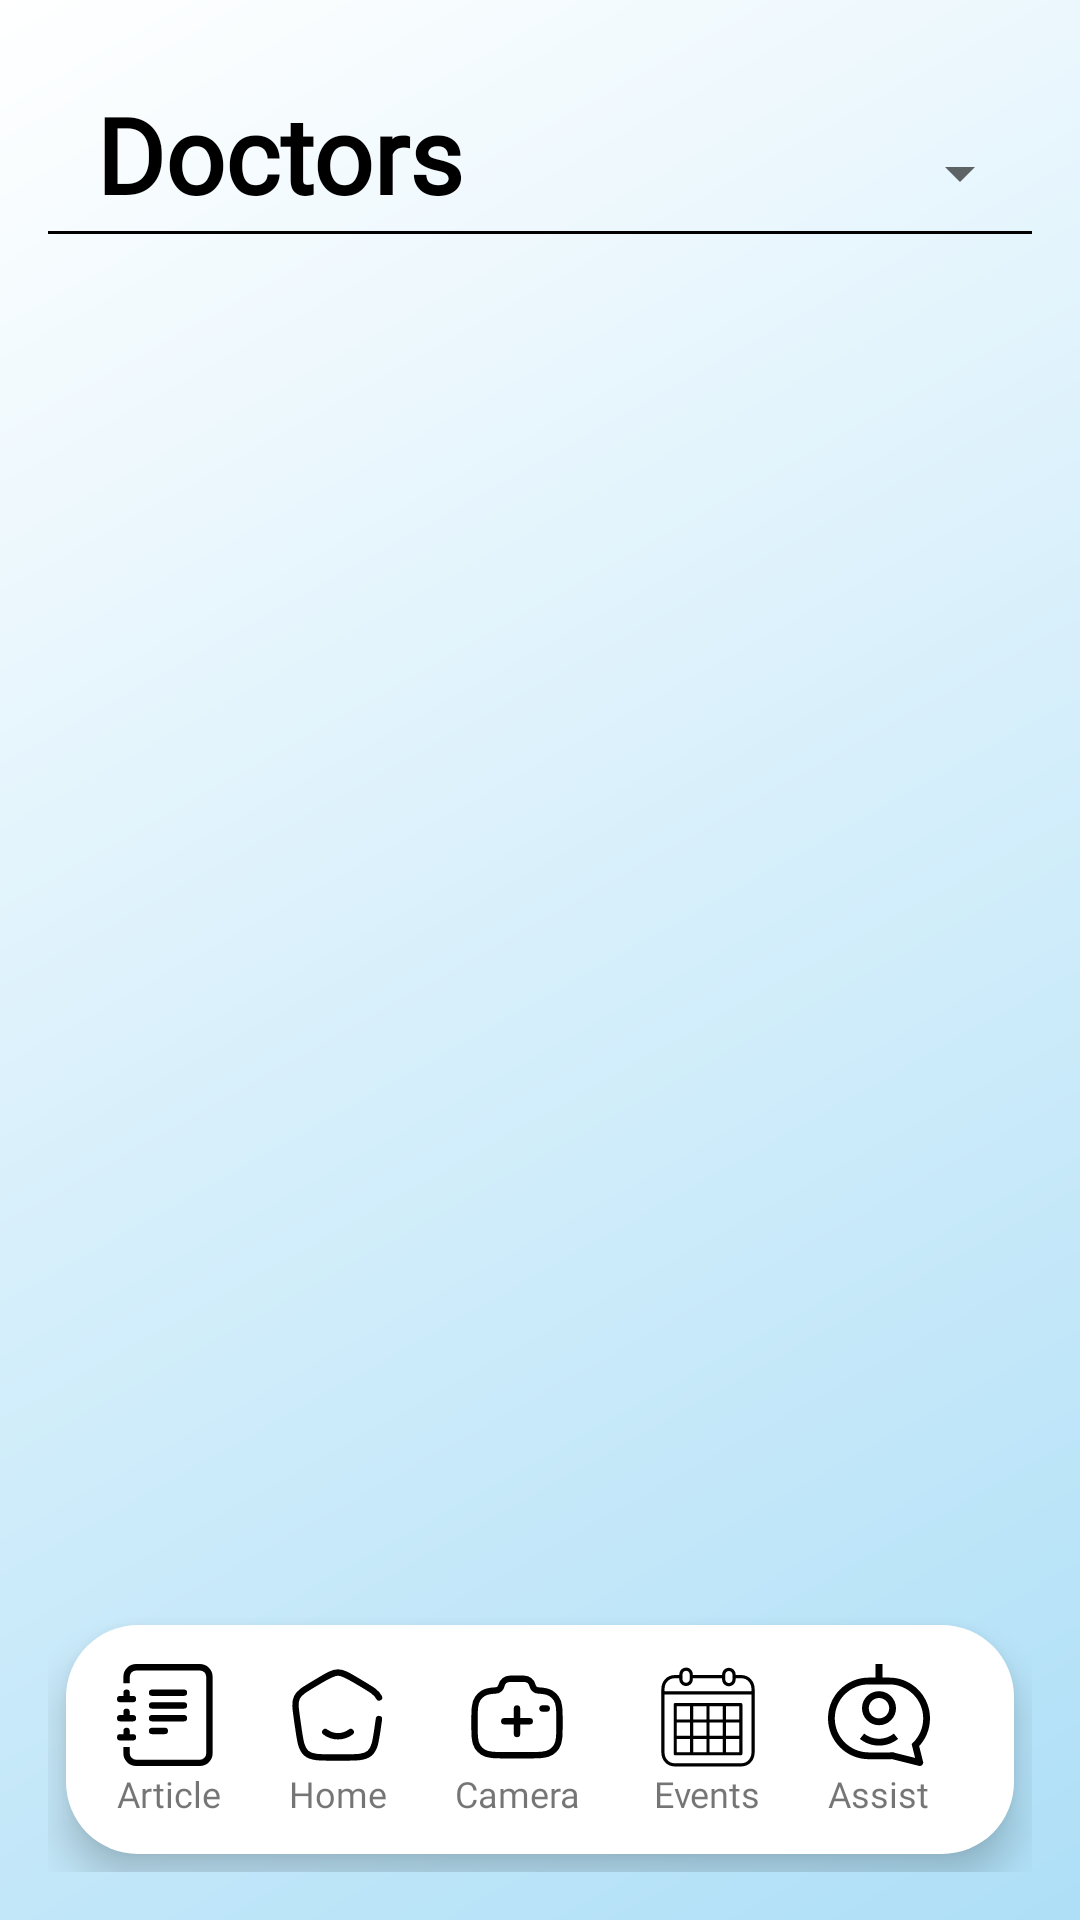

Named icons in this screenshot (1080px x 1920px) and their centers, [x,y]:
chatbot: [879,1715]
